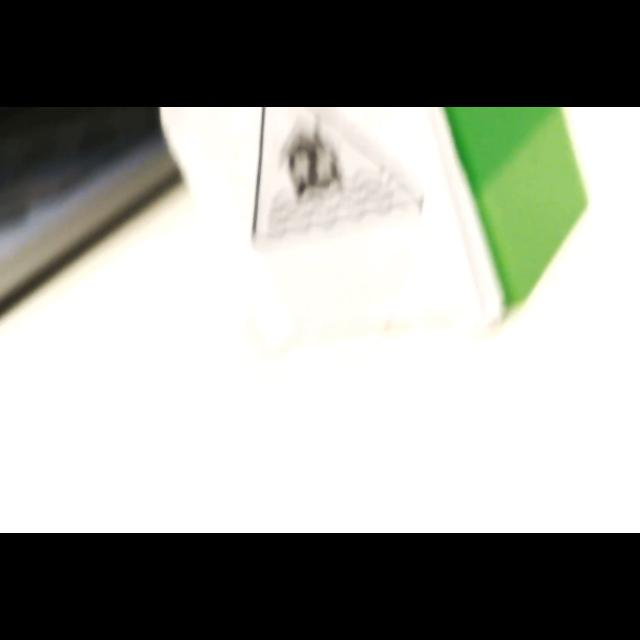Tsunami: (252, 107, 424, 248)
